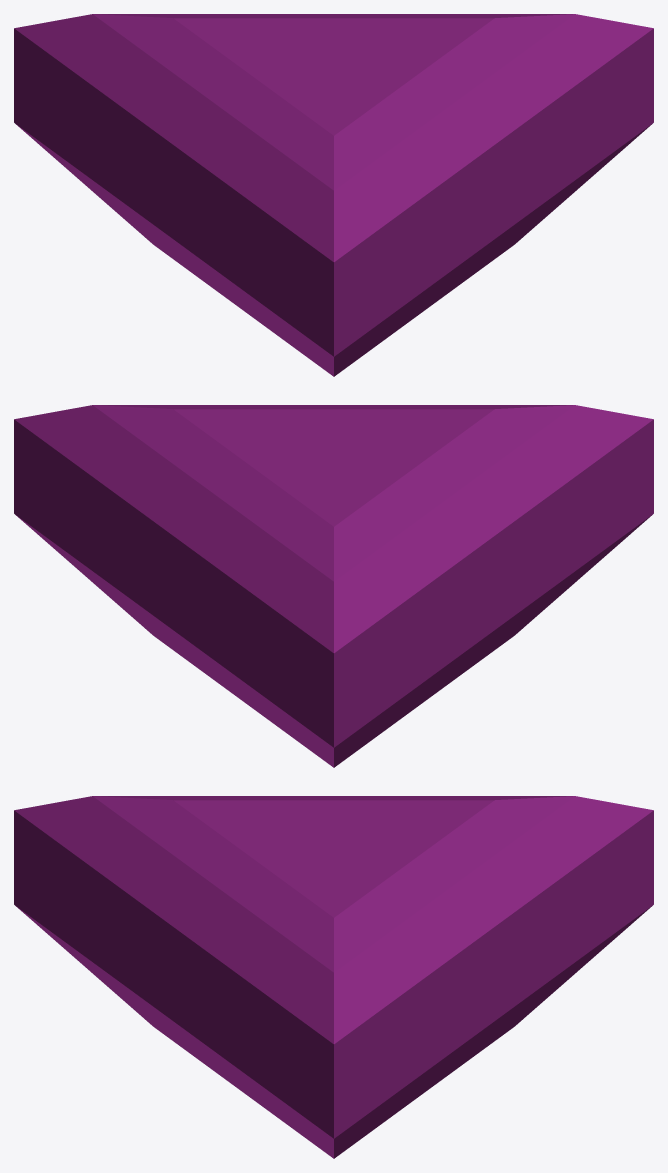
File: Gem016.fbx
3 views of the same model, one above another, from view 1: azimuth 30°, elevation 25°; view 2: azimuth 150°, elevation 25°; view 3: azimuth 270°, elevation 25° (orthographic).
Visible parts, largest first — view 1: Gem016; view 2: Gem016; view 3: Gem016.
Part boxes in pixels (<box>): Gem016: <box>14,14,653,376</box>; Gem016: <box>14,405,653,767</box>; Gem016: <box>14,796,653,1158</box>.
Bounding box in the file's own units: 189 × 87.07 × 218.
